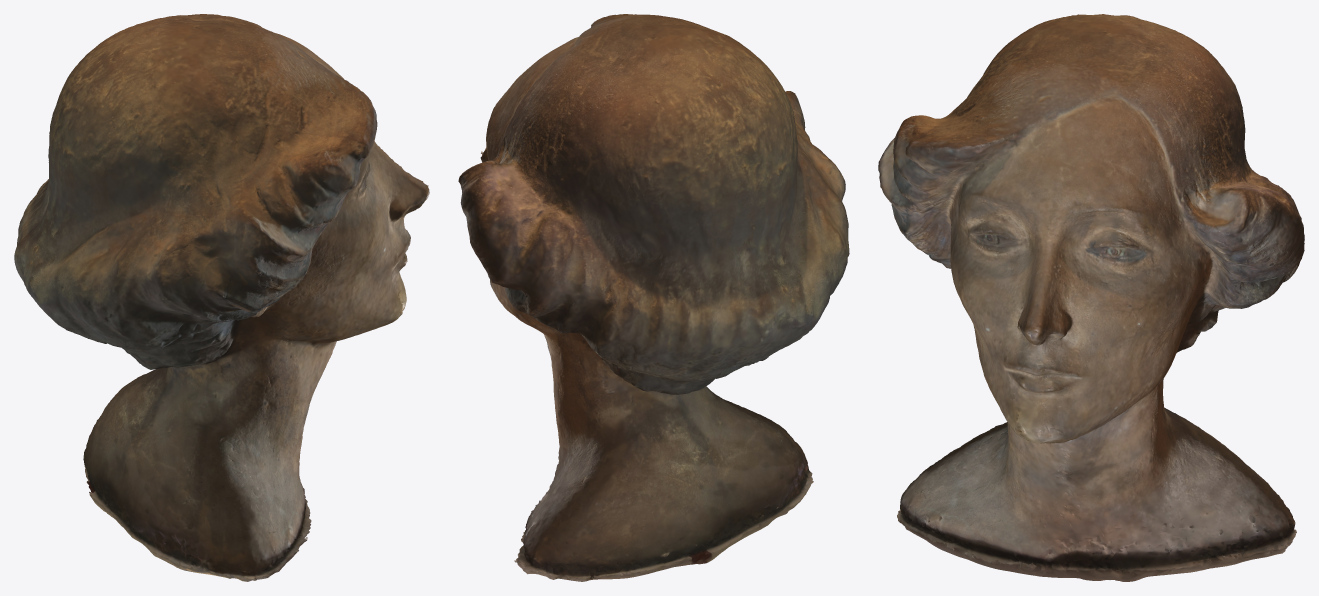
The model's file is youngwoman.gltf.
3 views of the same model, side by side, from view 1: azimuth 30°, elevation 25°; view 2: azimuth 150°, elevation 25°; view 3: azimuth 270°, elevation 25° (orthographic). The views are drawn at different scales.
Parts seen in each view (by area): view 1: Object_2; view 2: Object_2; view 3: Object_2.
Part boxes in pixels (x1=…): Object_2: x1=14, y1=14, x2=429, y2=581; Object_2: x1=458, y1=14, x2=849, y2=581; Object_2: x1=878, y1=14, x2=1304, y2=581.
Size of the model in its own units: 5.96 by 7.69 by 5.78.
Materials: 1 (1 with a texture image).
